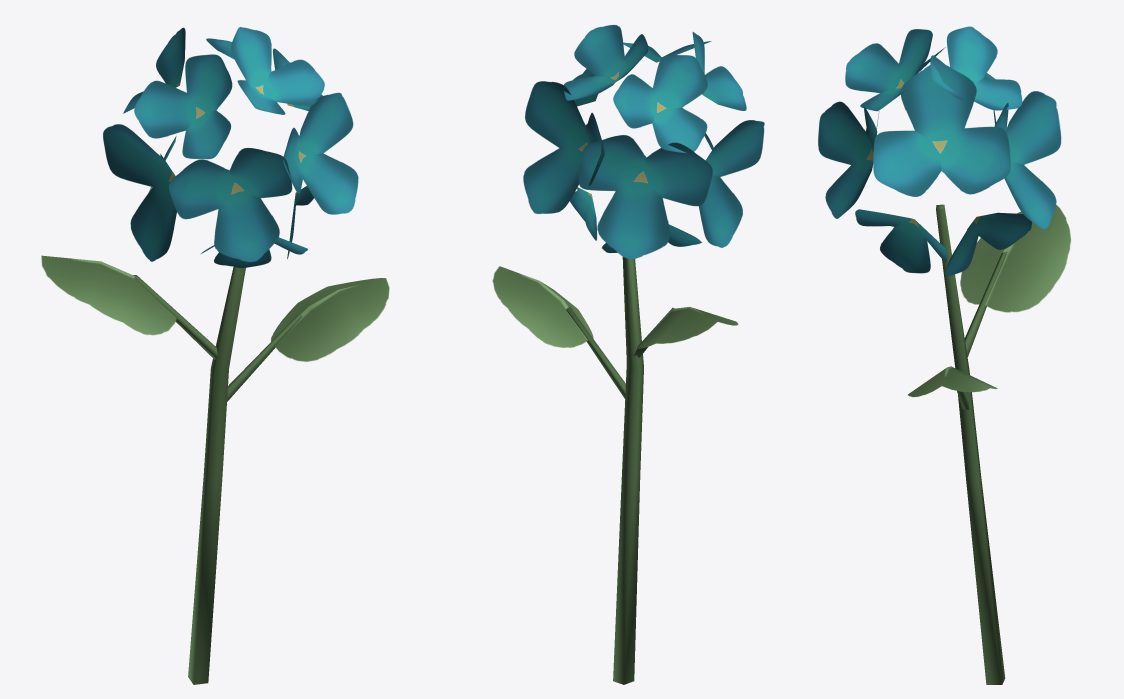
File: blue.glb
3 views of the same model, side by side, from view 1: azimuth 30°, elevation 25°; view 2: azimuth 150°, elevation 25°; view 3: azimuth 270°, elevation 25° (orthographic). The views are drawn at different scales.
Visible parts, largest first — view 1: Flower_1; view 2: Flower_1; view 3: Flower_1.
Part boxes in pixels (x1=…): Flower_1: x1=41, y1=27, x2=389, y2=684; Flower_1: x1=492, y1=25, x2=764, y2=684; Flower_1: x1=818, y1=26, x2=1070, y2=684.
Size of the model in its own units: 0.2677 by 0.4894 by 0.2044.
1 material, 1 textured.
